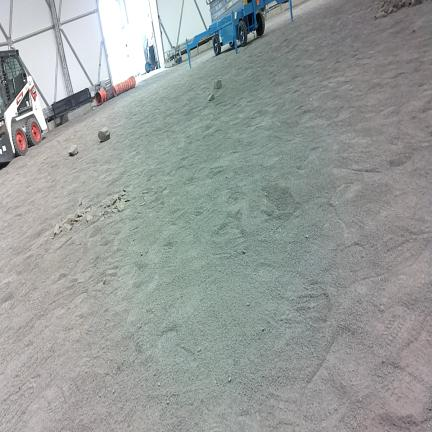Rock: (98, 127, 110, 142), (68, 144, 78, 156), (54, 224, 61, 236), (62, 223, 72, 231), (214, 80, 222, 89), (208, 92, 215, 102), (117, 202, 124, 211), (411, 0, 421, 6), (383, 5, 390, 13), (65, 217, 72, 224), (86, 215, 93, 222), (76, 213, 83, 219), (79, 199, 82, 206), (228, 377, 231, 382), (140, 251, 143, 256), (381, 306, 384, 311), (103, 278, 105, 285), (243, 250, 246, 254), (198, 348, 201, 352), (262, 328, 265, 331), (246, 303, 249, 306), (158, 383, 160, 386)
